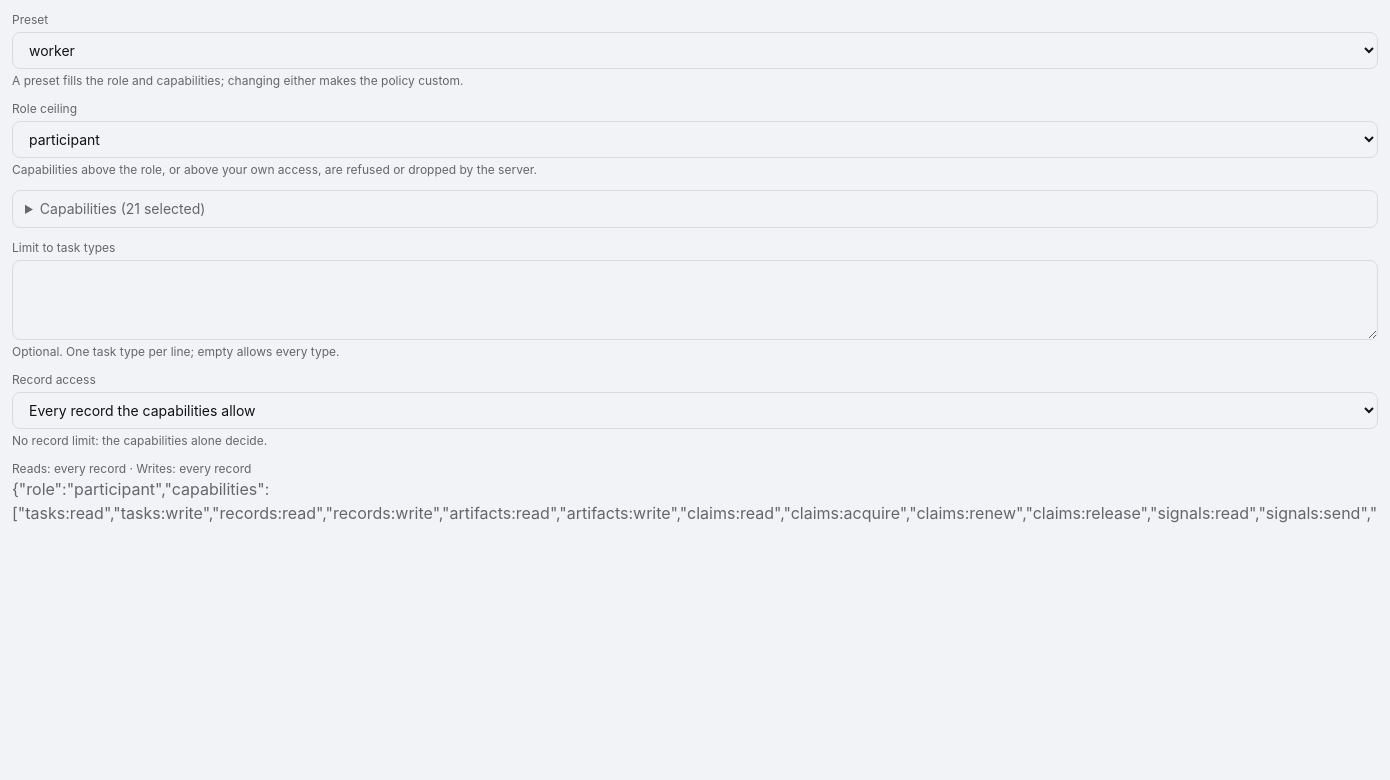
it: PolicyFields › shows an actionable error and no policy for a malformed rule
Step 1. Select "Limit reads and writes to the same records" in the dropdown labelled "Record access" → point(695, 410), box 12,392 -> 1378,429
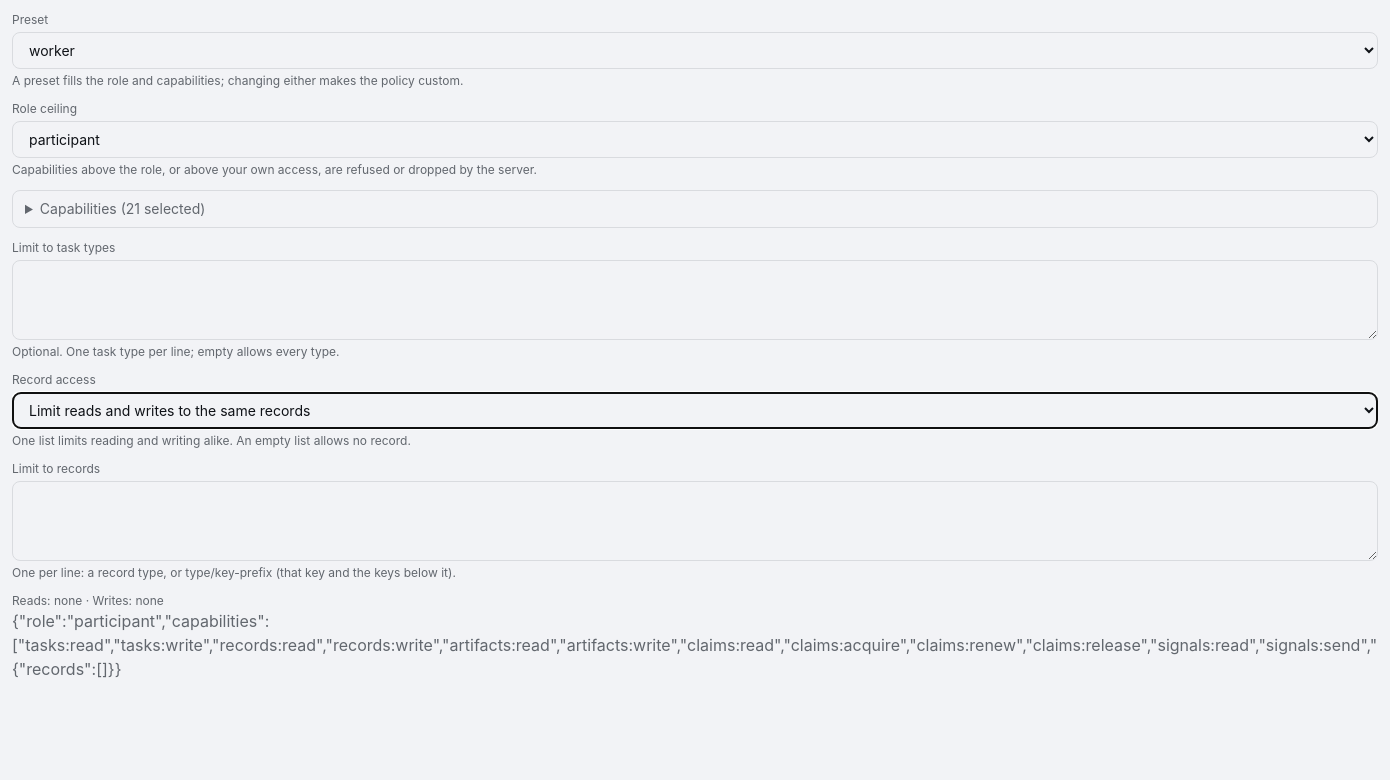
Step 2. Type "Config" into the text box labelled "Limit to records" → point(695, 521), box 12,481 -> 1378,561
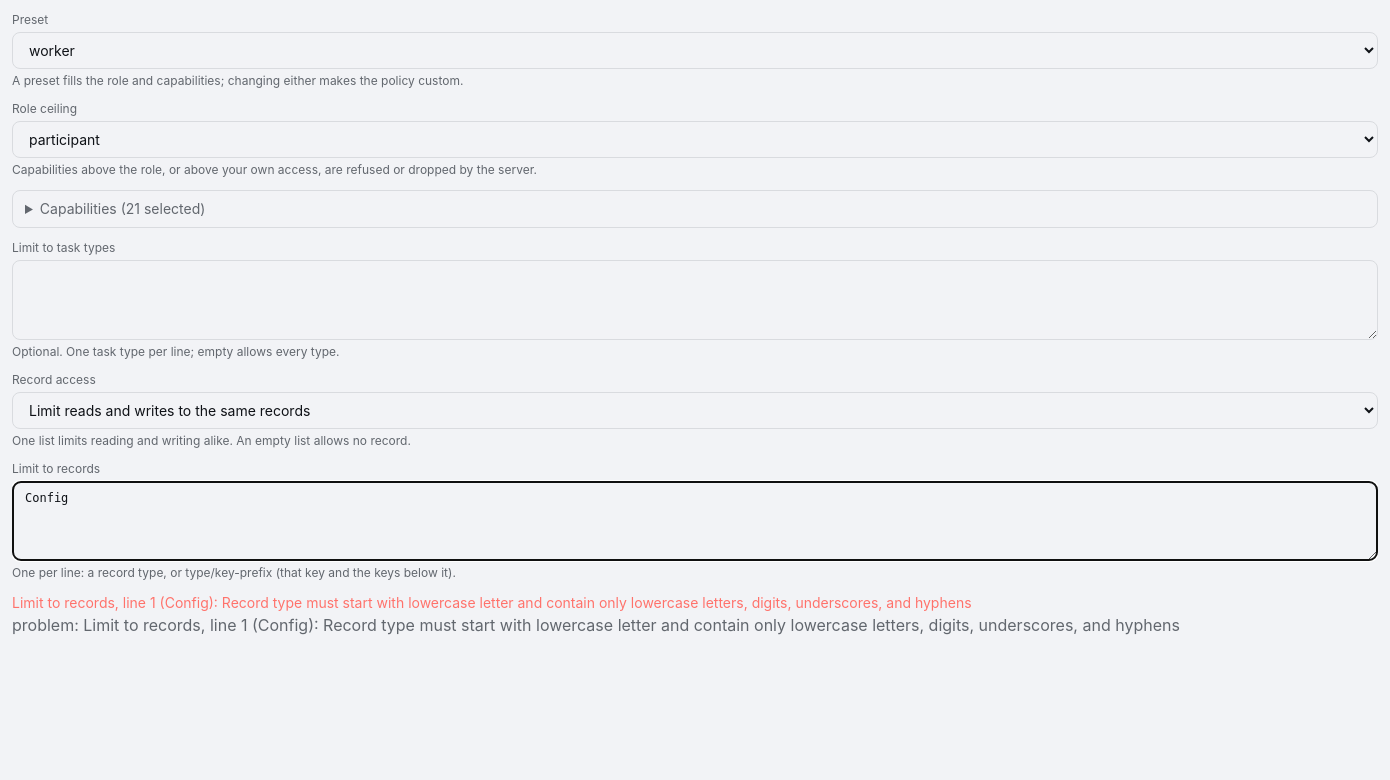
Expected: the message shows "Limit to records, line 1 (Config): Record type must start with lowercase", 12,594 -> 972,611
Expected: the text named "saved policy" shows "problem:", 12,615 -> 1180,635
